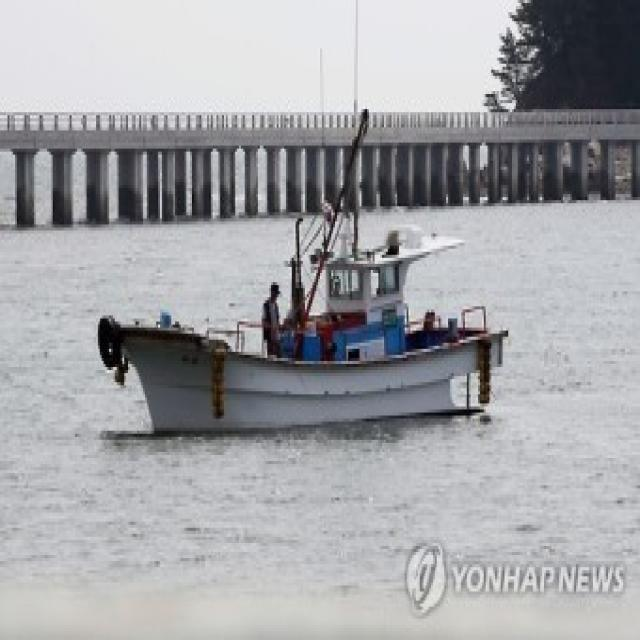Ship: (95, 217, 515, 453)
